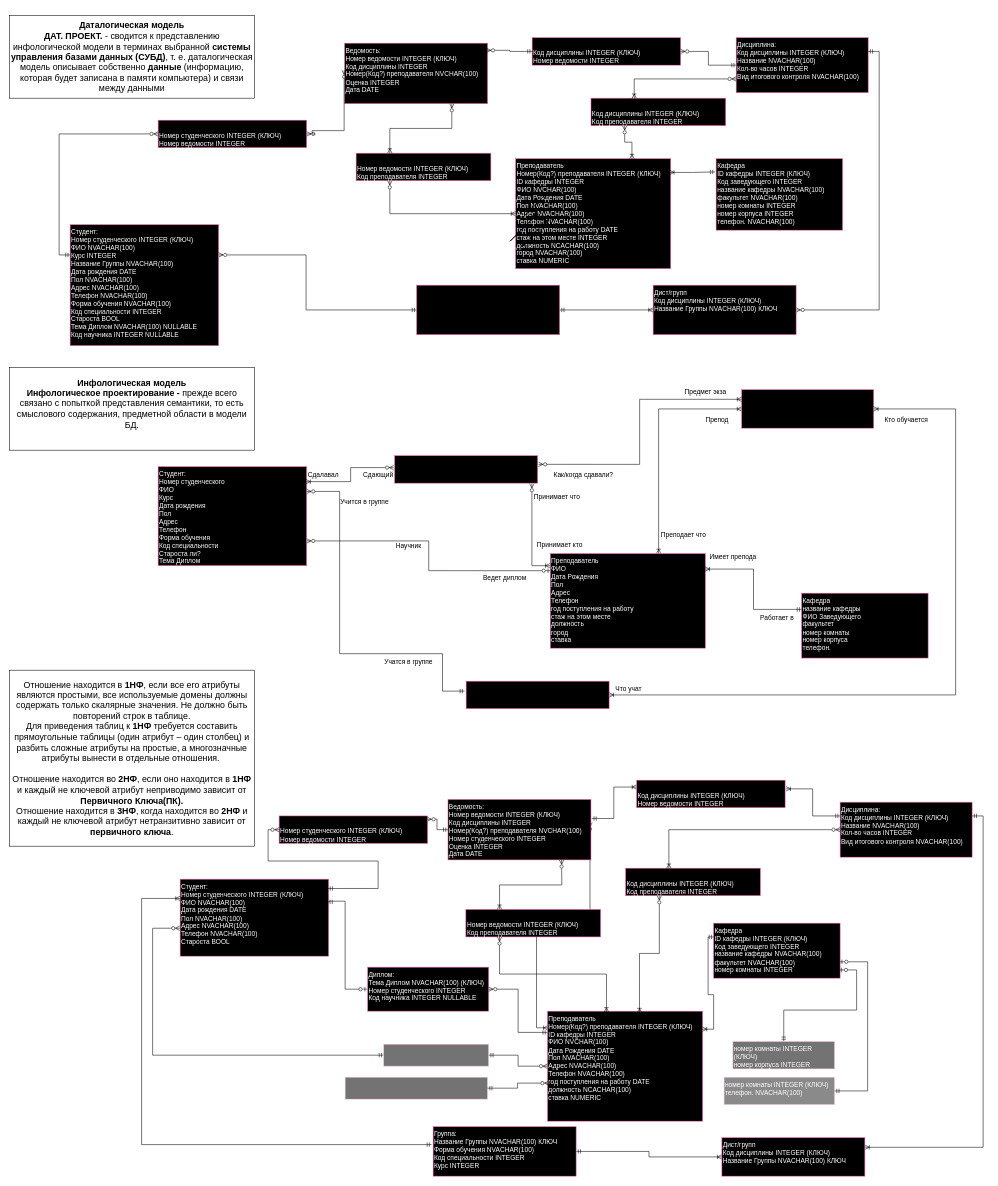
This 998x1186 diagram has some shape labels left out. The centre of each missing label's shape, as x and y in pixels:
"Адрес NVACHAR(100) (КЛЮЧ) город NVACHAR(100)" goes at (x=436, y=1055).
"Ведомость: Оценка Дата" goes at (x=466, y=469).
"год поступления на работу DATE (КЛЮЧ) стаж на этом месте INTEGER" goes at (x=416, y=1088).
"Группа: Название Группы NVACHAR(100) (КЛЮЧ) Студак Старосты INTEGER" goes at (x=488, y=310).
"Группа: Название Группы Студак Старосты" goes at (x=537, y=695).
"Дисциплина: Название Кол-во часов Вид итогового контроля" goes at (x=807, y=408).
